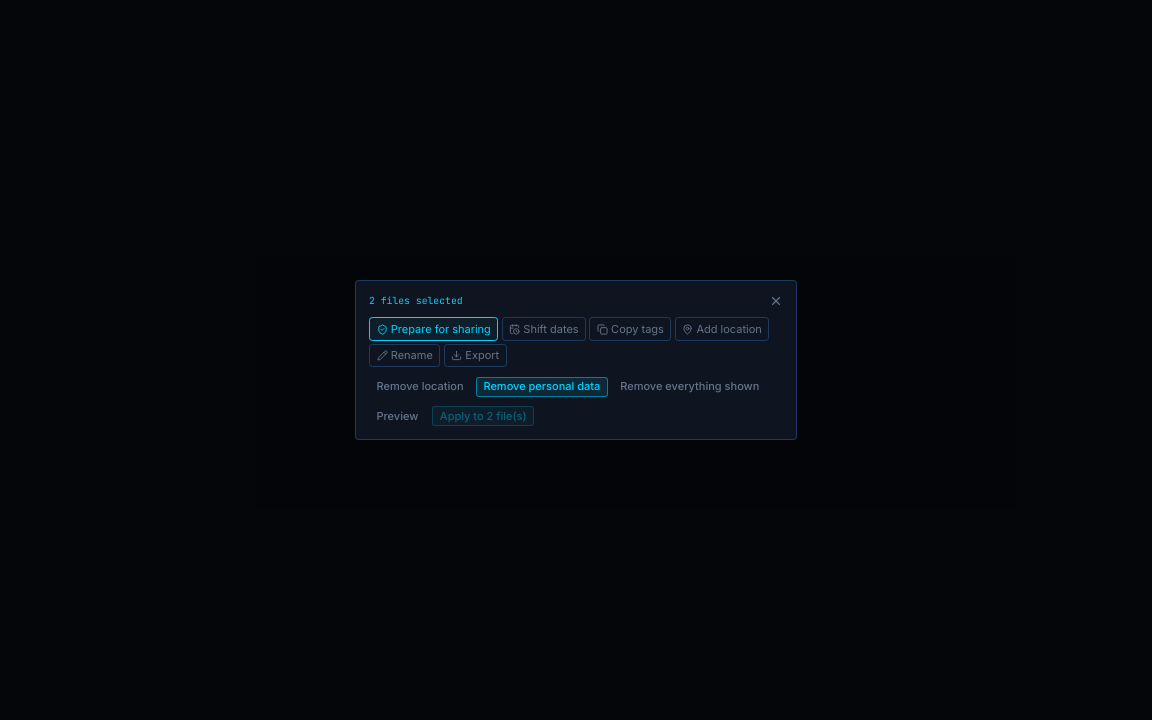
it: Batch dialog › previews every file first and shows a failing file without stopping
Expected: the button "Apply to 2 file(s)" is disabled, [432,406,534,426]
Step 1. Click the button "Preview" → x=397, y=416, box [369,406,426,426]
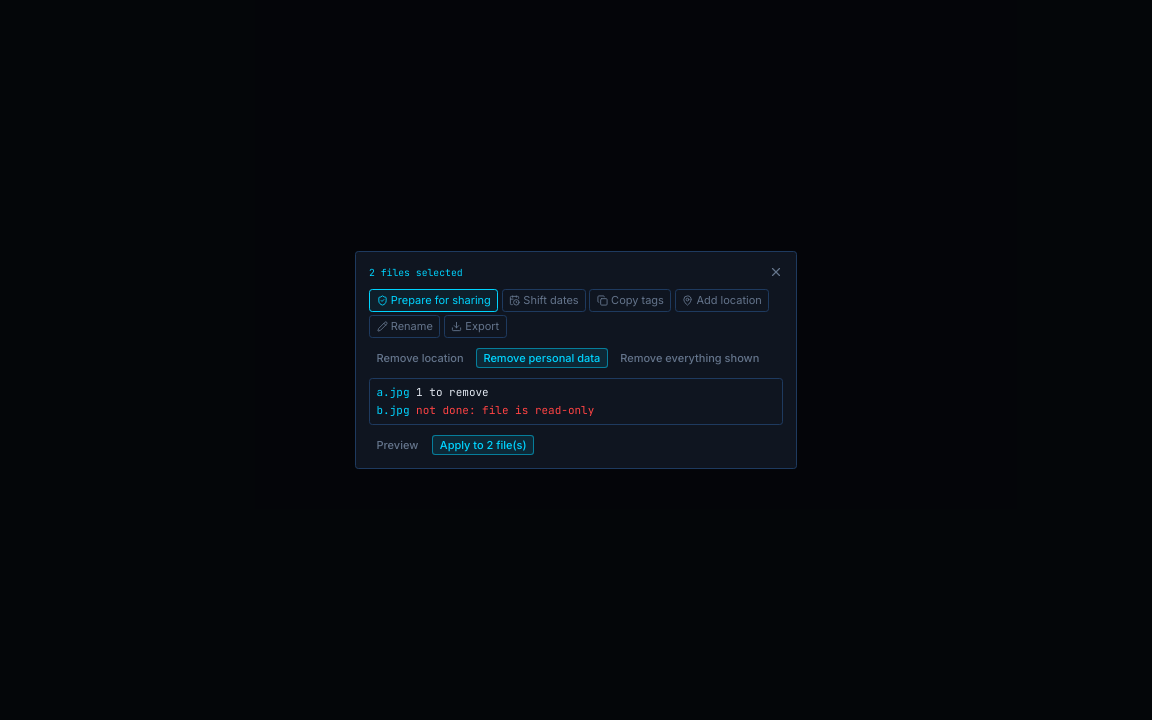
Result: the text "a.jpg" is shown at [376,385,410,399]
Result: the list named "Results" shows "1 to remove" at [416,385,489,399]
Result: the list named "Results" shows "not done: file is read-only" at [416,403,594,417]
